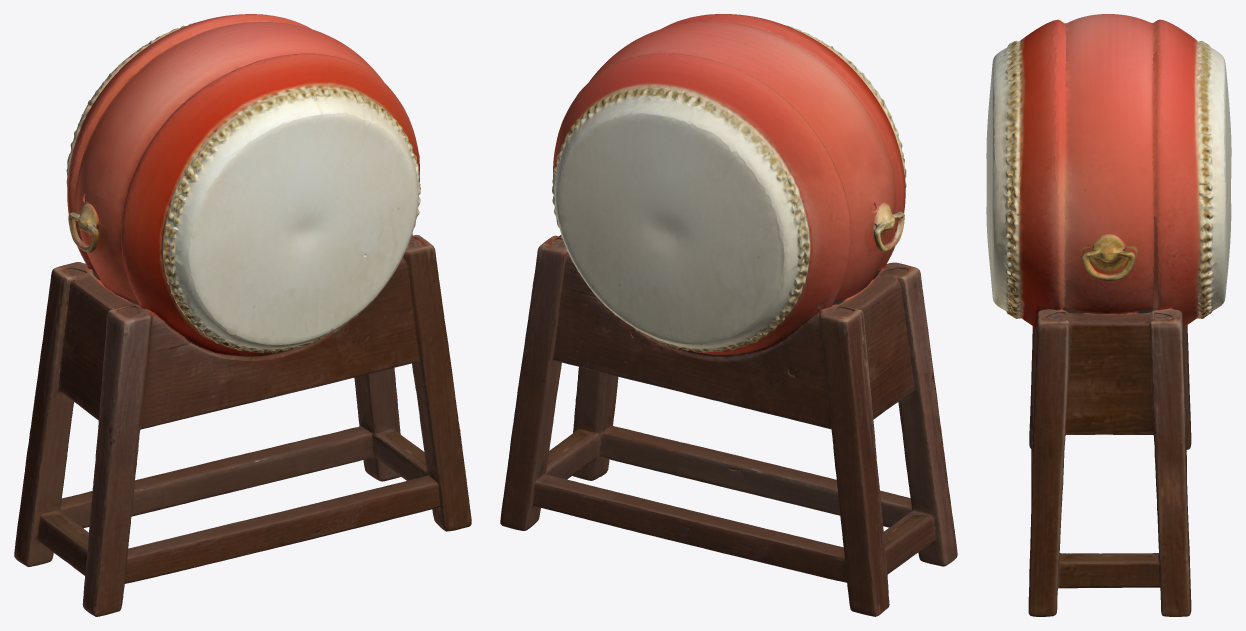
Rendered from temple-drum_raw.glb.
3 views of the same model, side by side, from view 1: azimuth 30°, elevation 25°; view 2: azimuth 150°, elevation 25°; view 3: azimuth 270°, elevation 25° (orthographic). The views are drawn at different scales.
Visible parts, largest first — view 1: geometry_0; view 2: geometry_0; view 3: geometry_0.
Boxes of the visible parts, x1,y1,x2,y2 form: geometry_0: (14, 14, 471, 616); geometry_0: (500, 14, 957, 616); geometry_0: (986, 14, 1231, 616).
Size of the model in its own units: 0.6 by 0.7685 by 0.3449.
Materials: 1 (1 with a texture image).
